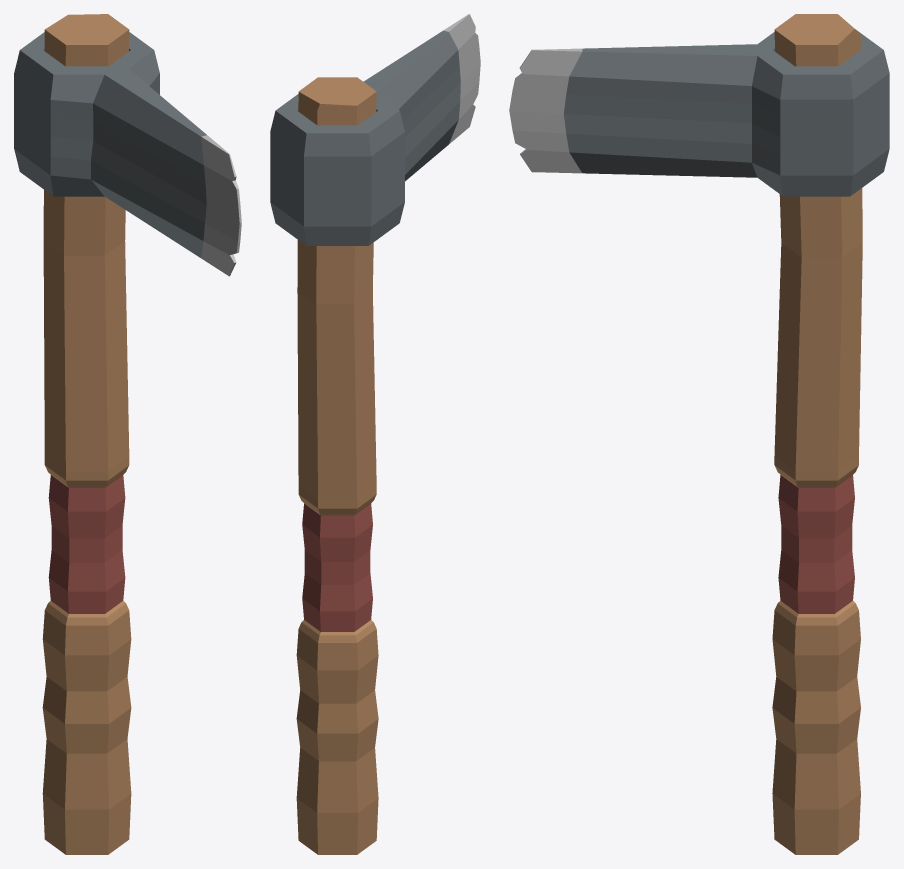
Rendered from Axe Unwrap.fbx.
3 views of the same model, side by side, from view 1: azimuth 30°, elevation 25°; view 2: azimuth 150°, elevation 25°; view 3: azimuth 270°, elevation 25° (orthographic). The views are drawn at different scales.
Parts seen in each view (by area): view 1: Cylinder; view 2: Cylinder; view 3: Cylinder.
Boxes of the visible parts, bbox=[...] form: Cylinder: bbox=[14, 14, 241, 854]; Cylinder: bbox=[270, 14, 480, 854]; Cylinder: bbox=[509, 14, 889, 854].
Size of the model in its own units: 188 by 1331 by 566.
